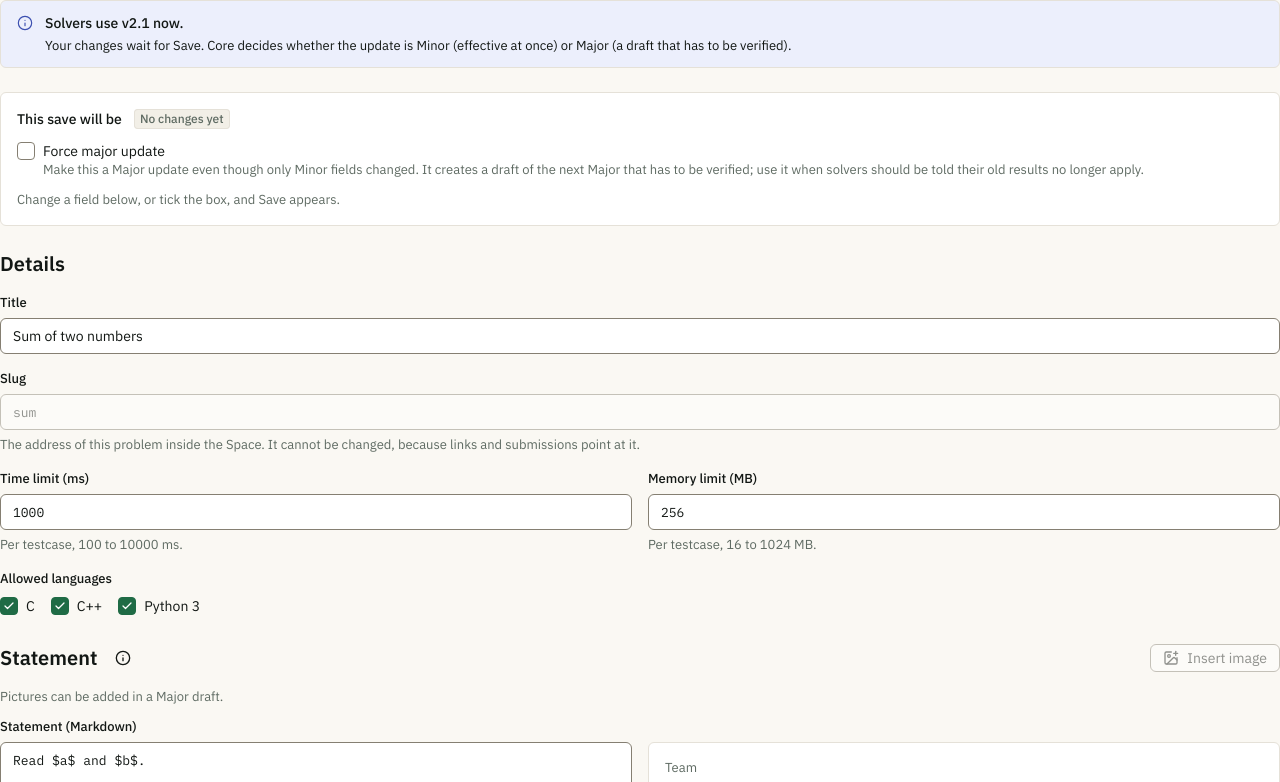
the update form of a published problem › predicts Major from a limit and locks Force major as already major
Replace the text in the field labelled "Time limit (ms)" with "2000" at point(316, 512), box left=0, top=494, right=632, bottom=530
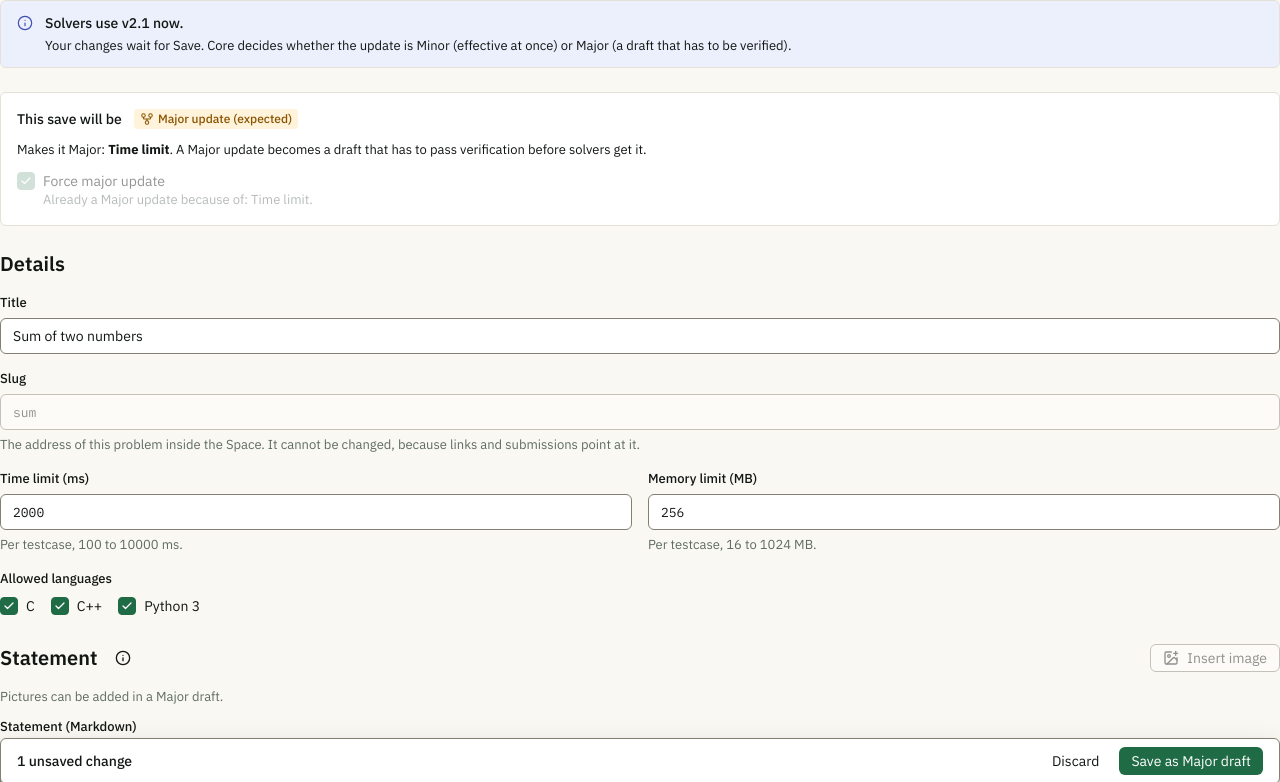
Expected: the text "Major update (expected)" is shown, left=134, top=109, right=298, bottom=129
Expected: the checkbox named "Force major update" next to "Force major update" is disabled, left=17, top=172, right=35, bottom=190
Expected: the button "Save as Major draft" is shown, left=1119, top=747, right=1263, bottom=775
